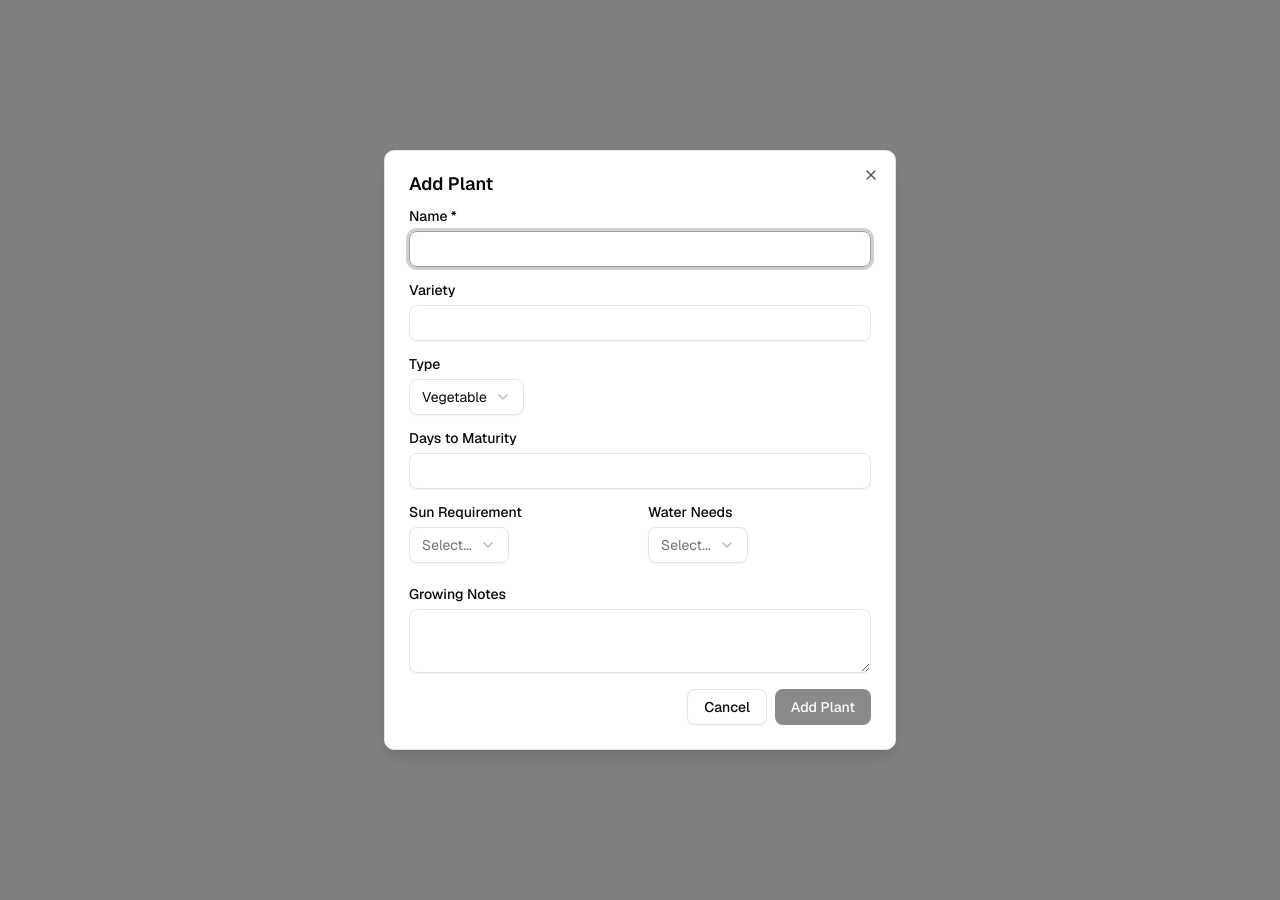
Test: PlantFormDialog › shows error message on failure
Step 1. Type "Tomato" into the field labelled "Name *" → coordinates (640, 249), box [409,231,871,267]
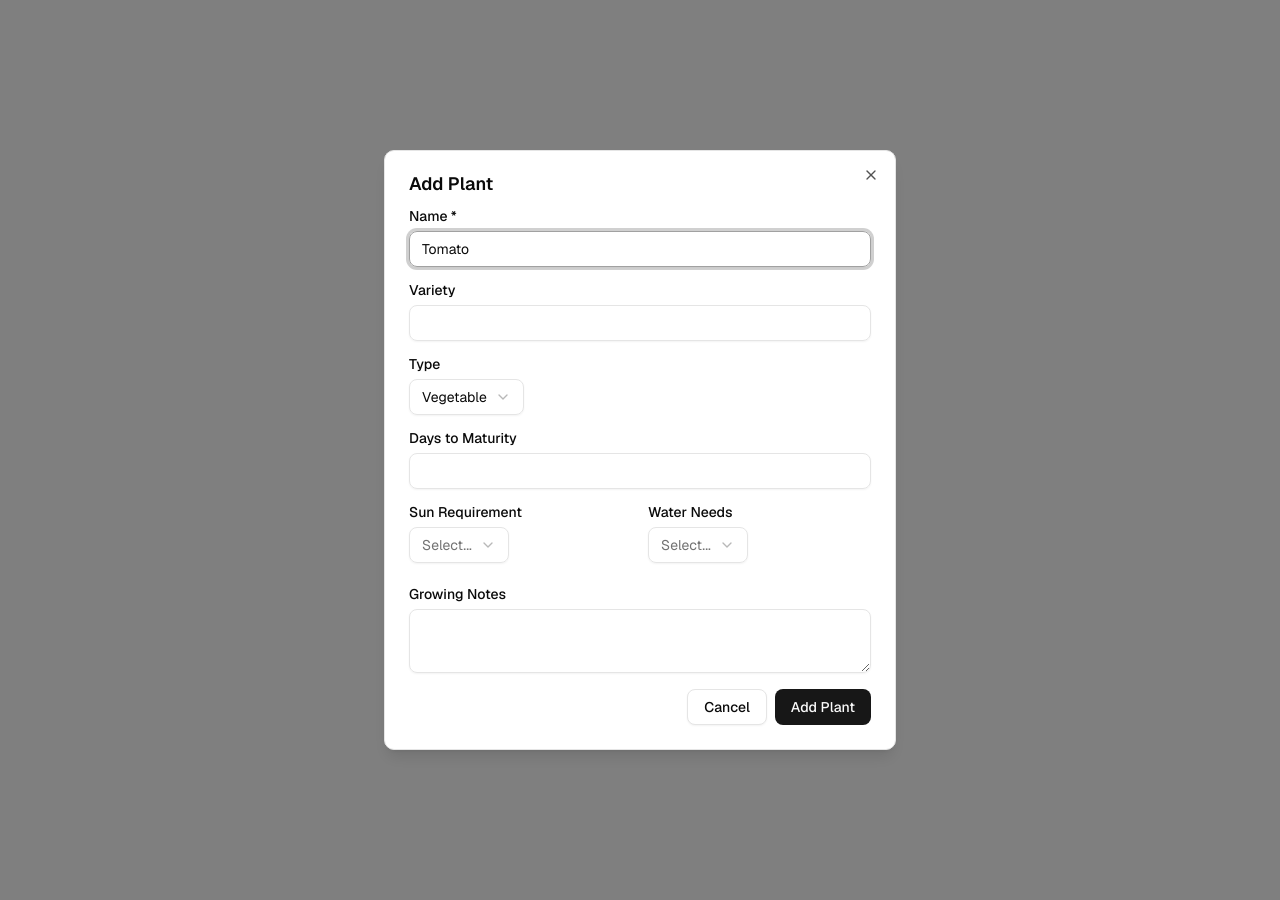
Step 2. Click the button "Add Plant" → coordinates (823, 707), box [775,689,871,725]
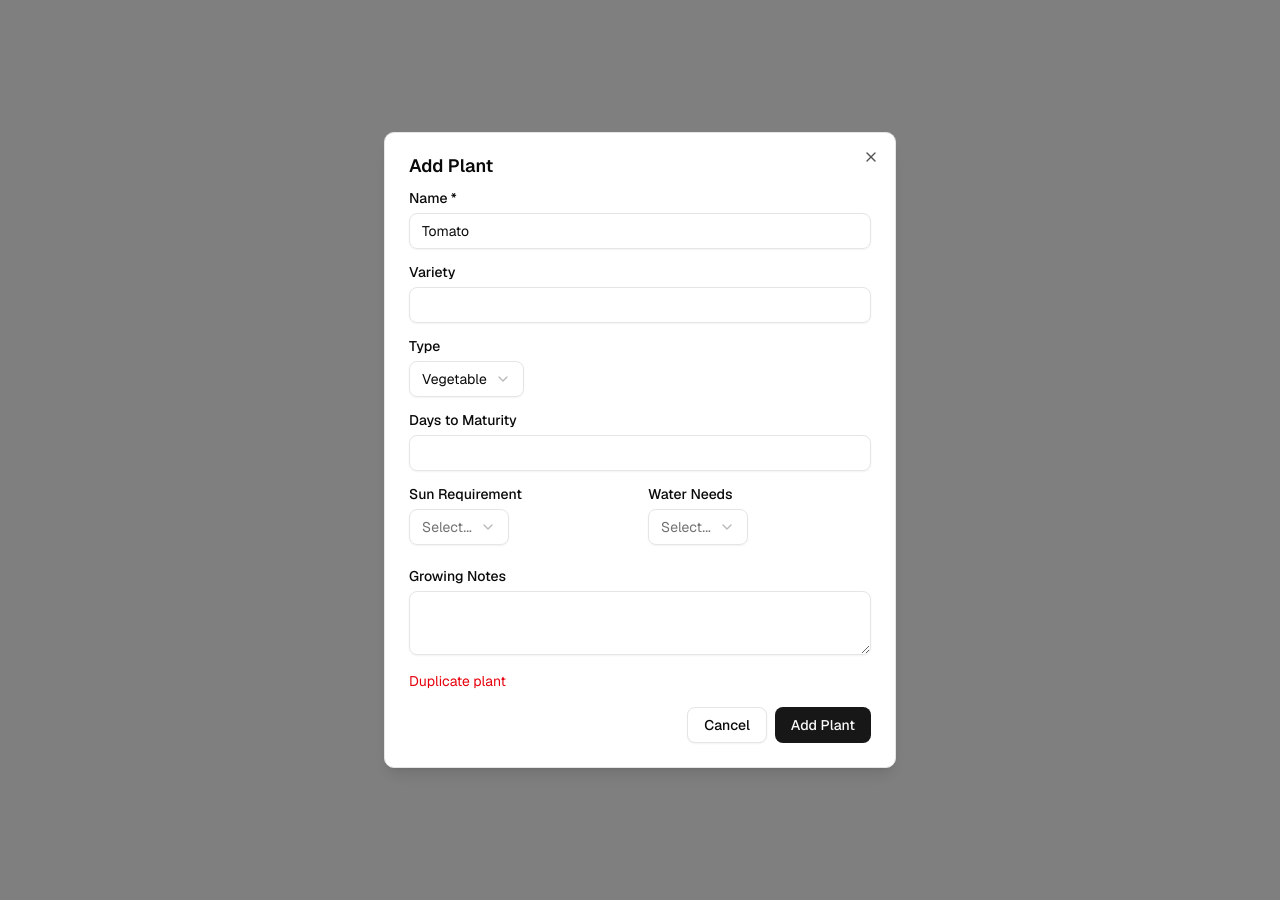
expect the text "Duplicate plant" is shown: met, box [409,672,506,690]
